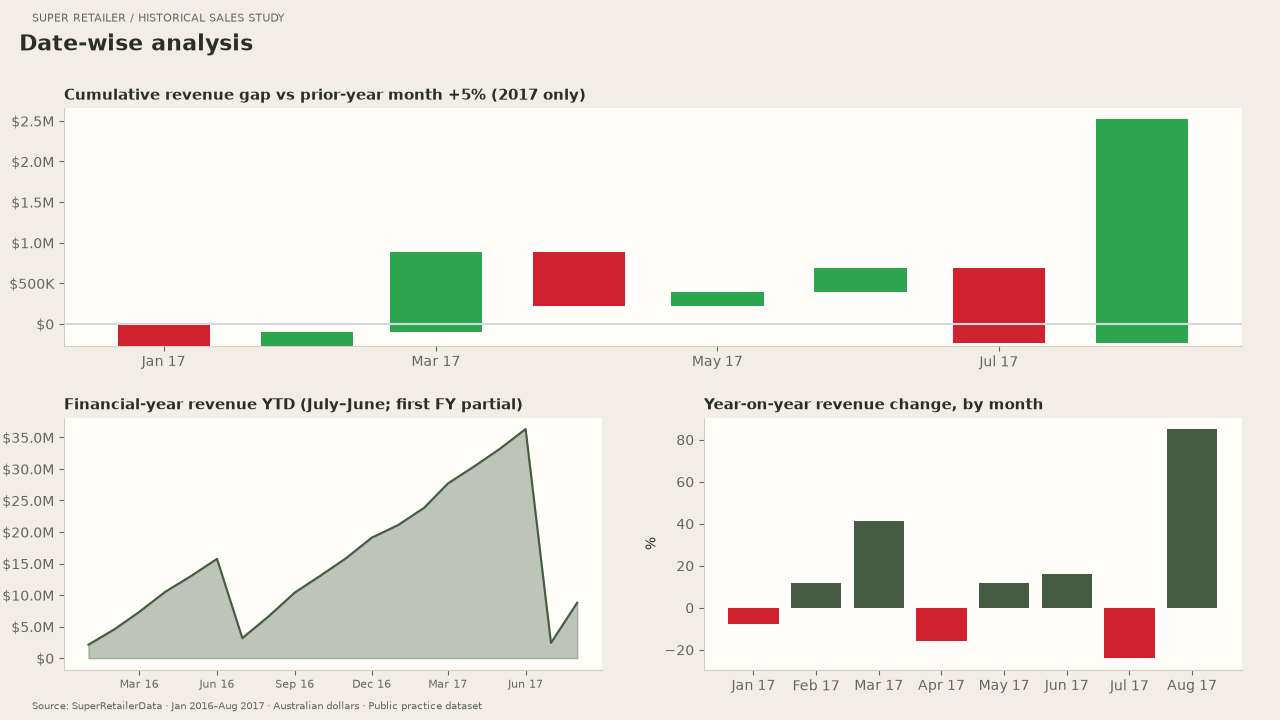

Layout of this report page (visuals, bound fields, positions):
{"tool":"powerbi","page":{"name":"Date-wise analysis","canvas":[1280,720],"ordinal":1},"visuals":[{"type":"waterfallChart","fields":{"Category":["Dates.Date.Variation.Date Hierarchy.Year","Dates.Date.Variation.Date Hierarchy.Month"],"Y":["Sales.Revenue variance"]},"box":[0,0,1279.7,318.8],"z":0},{"type":"areaChart","fields":{"Category":["Dates.Date.Variation.Date Hierarchy.Month"],"Y":["Sales.Revenue YTD"],"Series":["Dates.Date.Variation.Date Hierarchy.Year"]},"box":[0,333,640.3,387],"z":1000},{"type":"clusteredColumnChart","fields":{"Category":["Dates.Date.Variation.Date Hierarchy.Year","Dates.Date.Variation.Date Hierarchy.Month"],"Y":["Sales.YoY revenue change"]},"box":[650.9,333,628.8,387],"z":2000},{"type":"actionButton","box":[0,679.4,32.7,40.4],"z":2001},{"type":"actionButton","box":[1246.9,679.3,32.8,40.7],"z":2002}]}

Visuals, with their boxes in screenshot pixels (x1, y1, x2, y2), scaled from the page's 1280x720 canvas onto the 1280x720 screenshot:
waterfallChart - Dates.Date.Variation.Date Hierarchy.Year x Dates.Date.Variation.Date Hierarchy.Month: x1=0 y1=0 x2=1279 y2=319
areaChart - Dates.Date.Variation.Date Hierarchy.Month x Sales.Revenue YTD: x1=0 y1=333 x2=640 y2=719
clusteredColumnChart - Dates.Date.Variation.Date Hierarchy.Year x Dates.Date.Variation.Date Hierarchy.Month: x1=651 y1=333 x2=1279 y2=719
actionButton: x1=0 y1=679 x2=33 y2=719
actionButton: x1=1247 y1=679 x2=1279 y2=719
